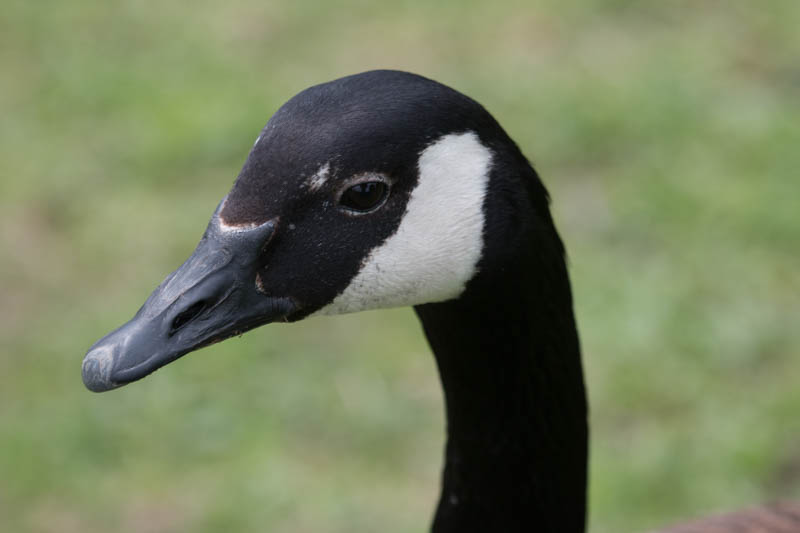goose-head: (81, 69, 538, 390)
